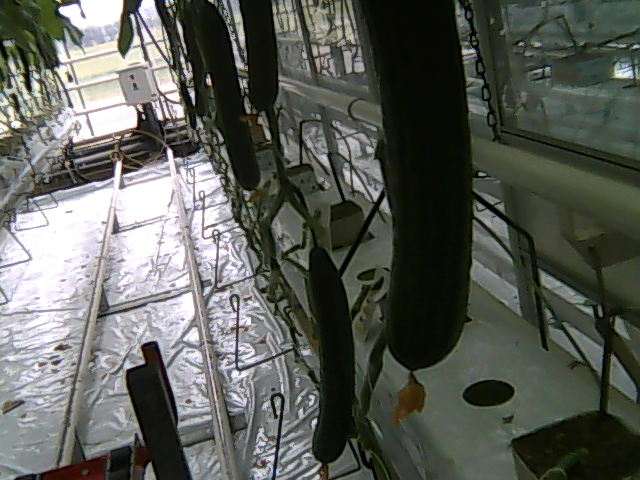concombre: (356, 1, 478, 425), (303, 238, 359, 480), (192, 1, 261, 195), (239, 1, 281, 118)
